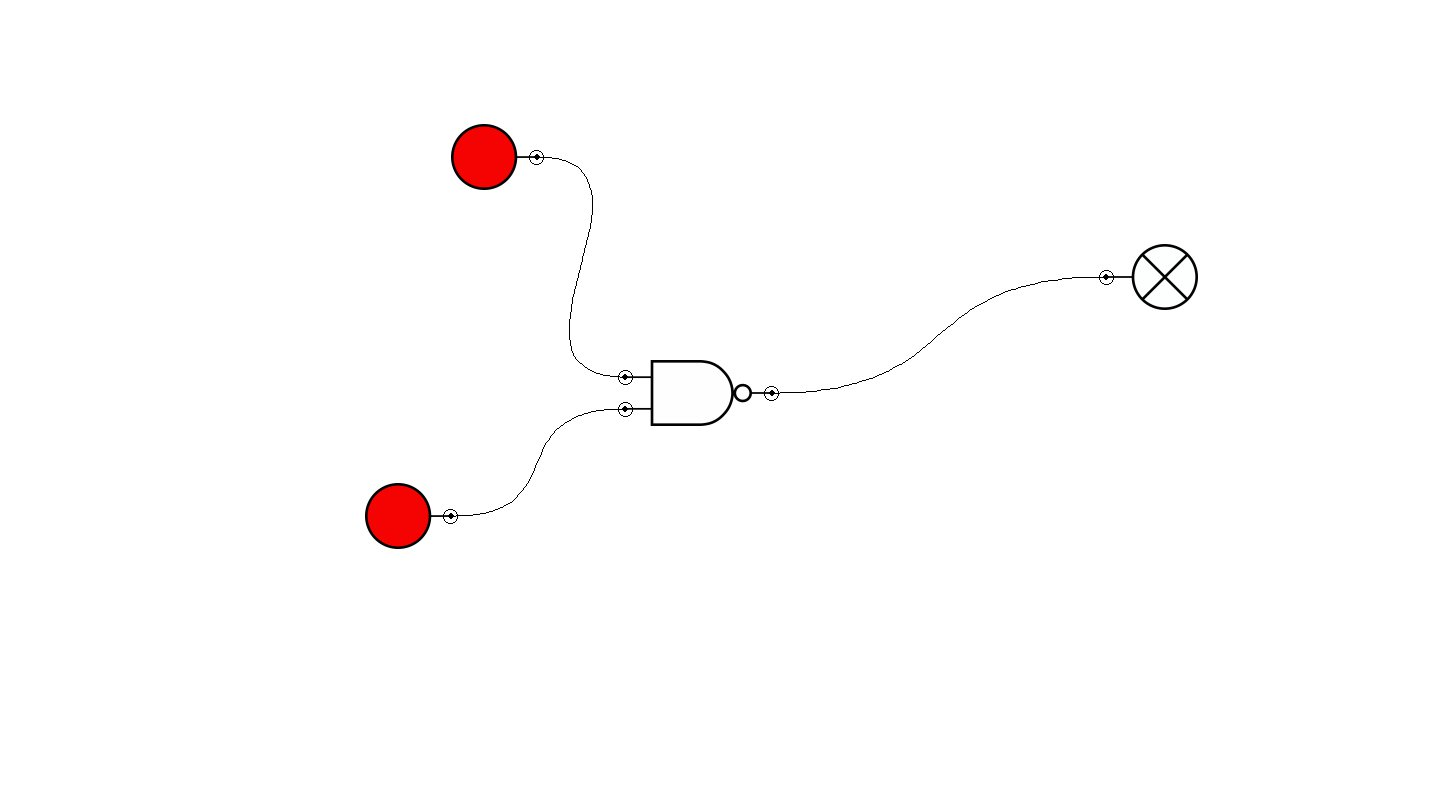bulb: (1099, 244, 1198, 310)
nand: (618, 360, 779, 426)
switch_False: (365, 483, 458, 549), (451, 124, 544, 190)
